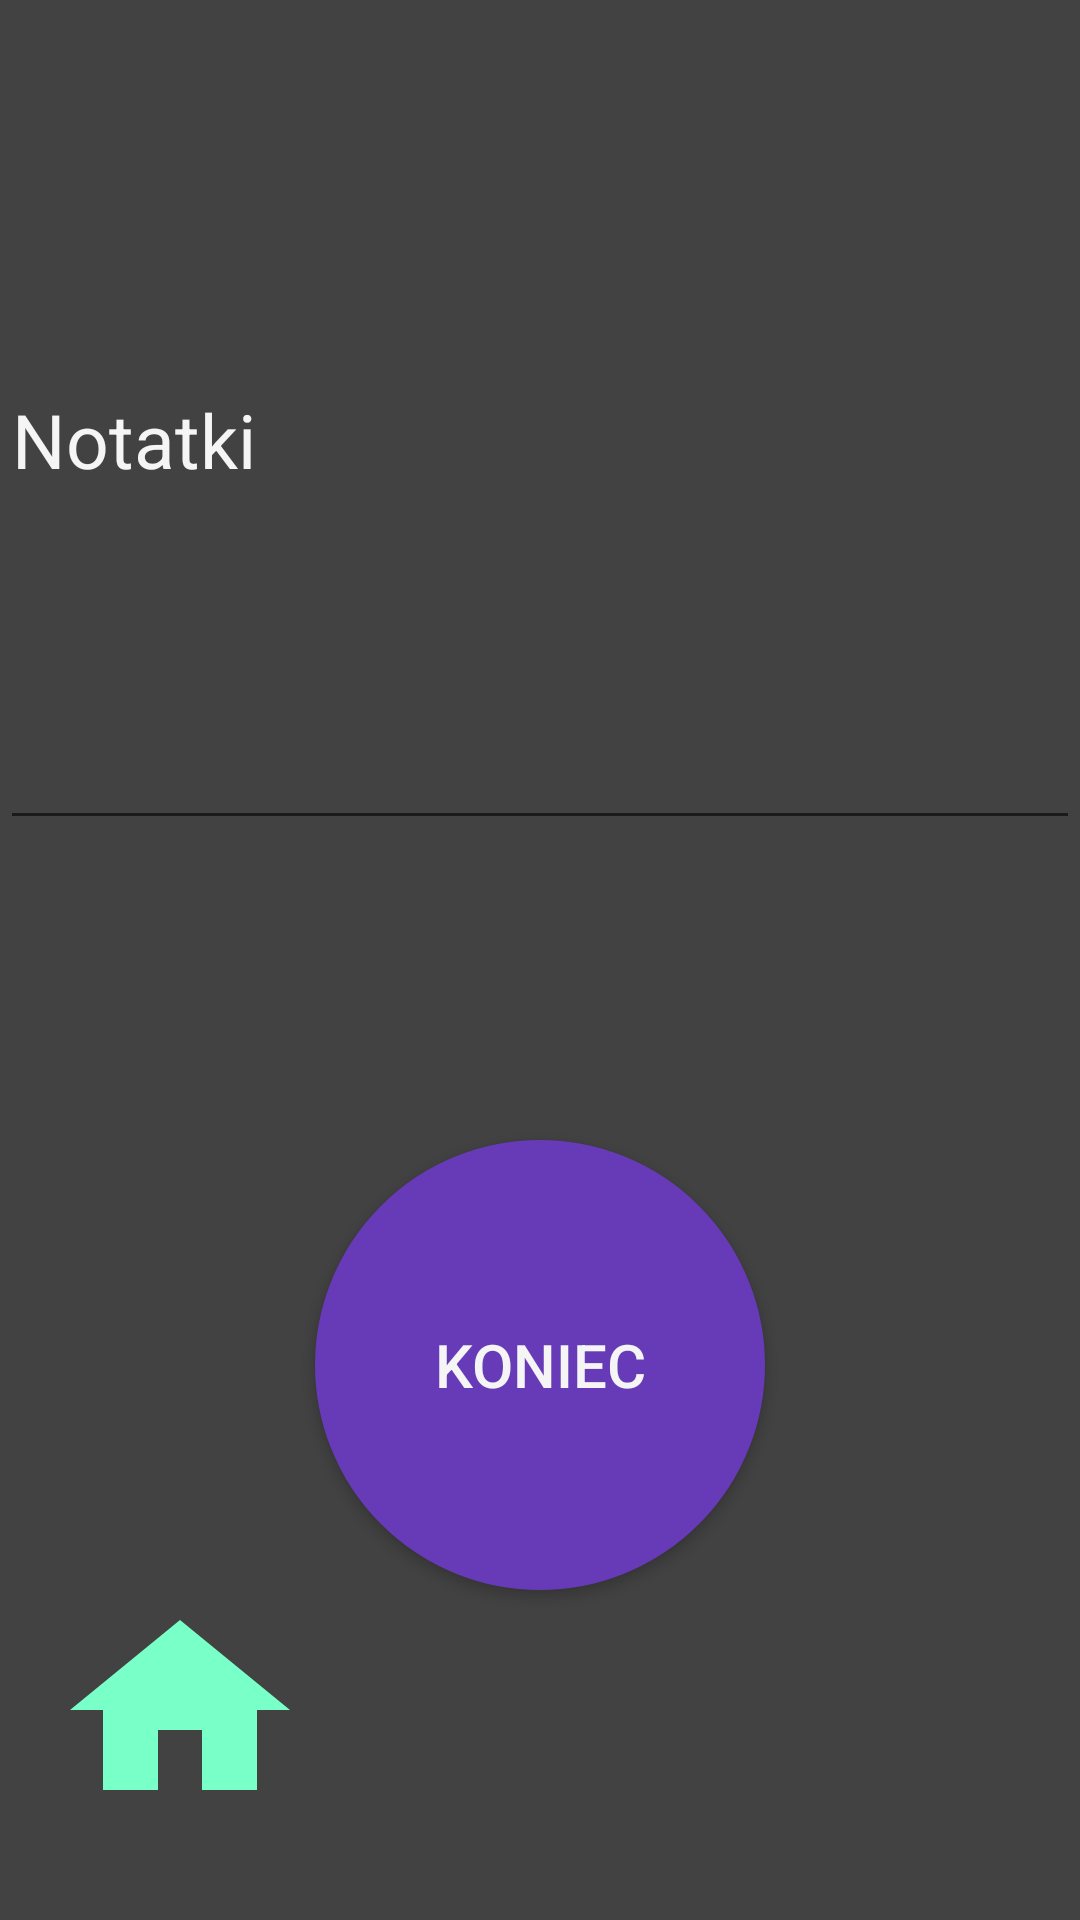

Icons on this 1080x1920 Android screen, each with its box as (x1, y1, x2, y2):
home: (70, 1620, 290, 1790)
